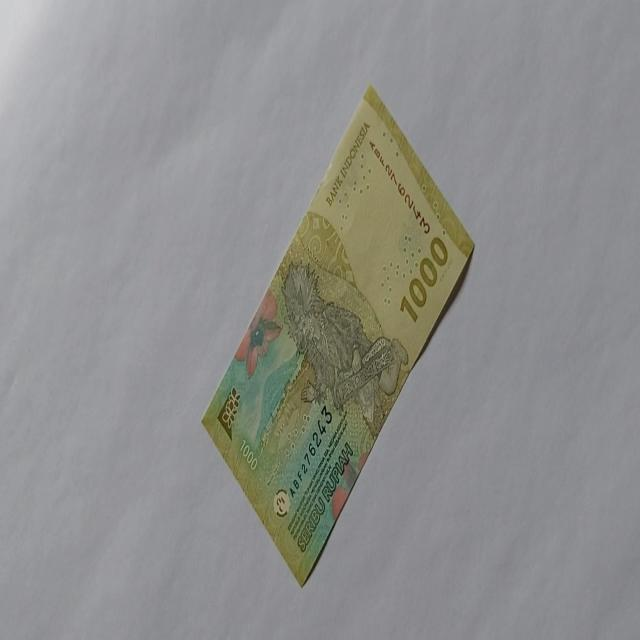seribu rupiah kertas: (200, 82, 475, 588)
